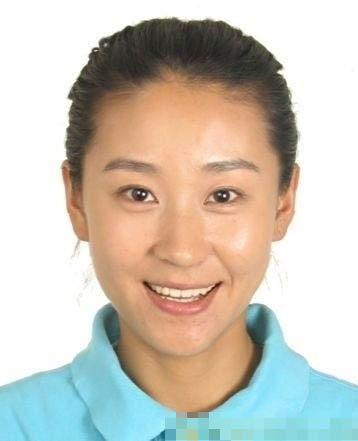unmask: (92, 111, 280, 340)
